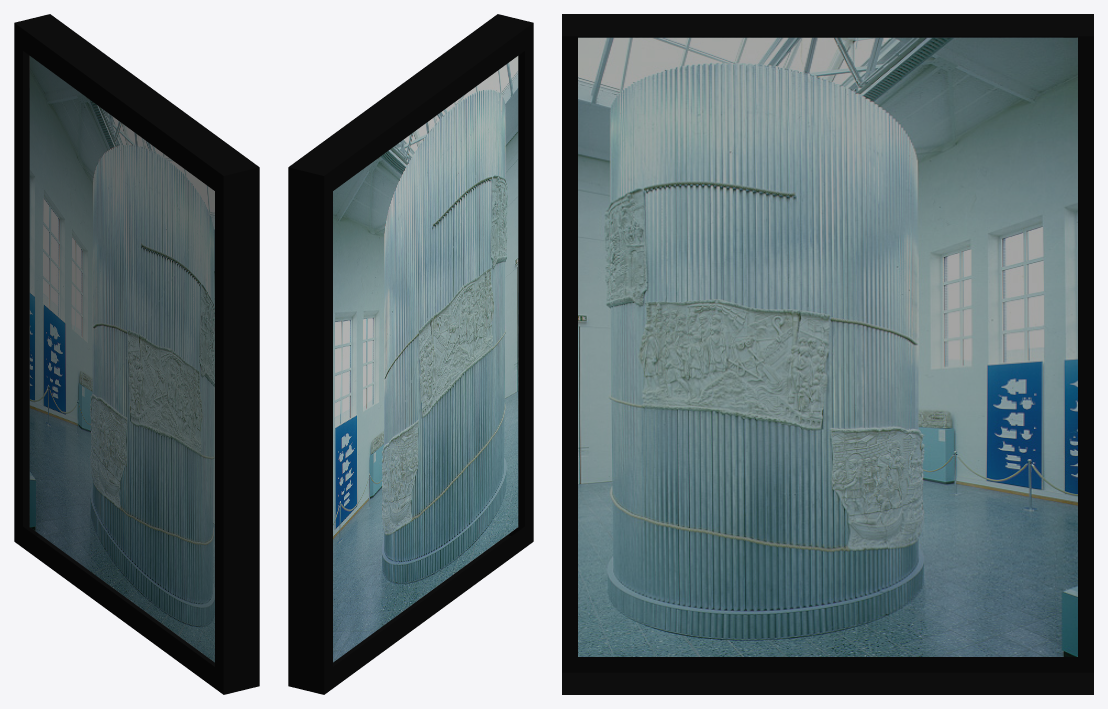
File: painting2.glb
3 renders of one model, left to right at view 1: azimuth 30°, elevation 25°; view 2: azimuth 150°, elevation 25°; view 3: azimuth 270°, elevation 25°, orthographic. The views are drawn at different scales.
Parts seen in each view (by area): view 1: Cube.008; view 2: Cube.008; view 3: Cube.008.
Part boxes in pixels (bbox=[...]): Cube.008: bbox=[14, 14, 259, 694]; Cube.008: bbox=[288, 14, 533, 694]; Cube.008: bbox=[562, 14, 1093, 694].
Bounding box in the file's own units: 0.1088 × 1.5 × 1.1.
Materials: 2 (1 with a texture image).
